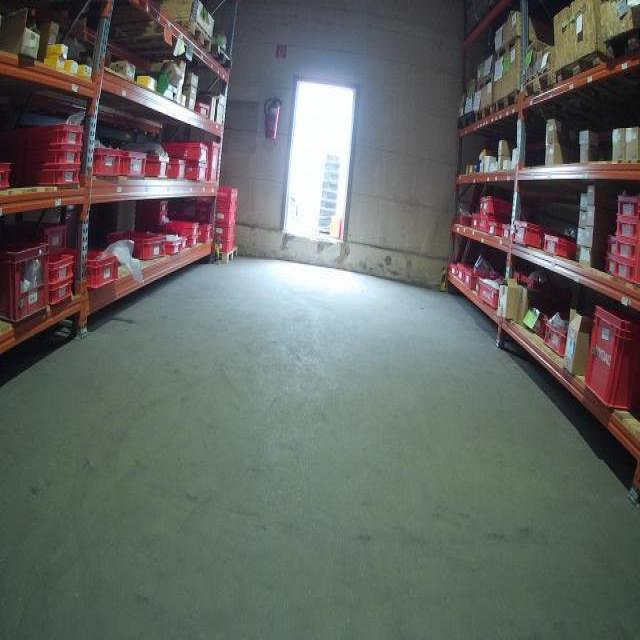pallet: (556, 49, 604, 87), (604, 27, 640, 63), (525, 67, 557, 97), (194, 49, 232, 70), (177, 24, 220, 40), (494, 90, 520, 112), (210, 246, 239, 264), (475, 104, 494, 123), (457, 111, 475, 131)
small_load_carrier: (583, 303, 640, 413), (2, 239, 52, 328), (2, 123, 84, 149), (108, 227, 167, 260), (117, 147, 170, 183), (9, 218, 73, 247), (86, 248, 126, 287), (168, 138, 210, 165), (43, 253, 78, 285), (21, 168, 78, 187), (510, 217, 544, 248), (542, 233, 577, 261), (544, 317, 569, 355), (477, 197, 522, 218), (19, 152, 81, 167), (91, 151, 121, 179), (202, 140, 220, 186), (45, 278, 73, 307), (163, 153, 188, 184), (614, 192, 640, 221), (163, 218, 202, 237), (475, 280, 501, 308), (465, 269, 496, 291), (2, 155, 19, 195), (181, 166, 210, 189), (614, 261, 640, 285), (136, 215, 170, 232), (614, 240, 640, 261), (136, 200, 169, 215), (614, 221, 639, 240), (216, 197, 241, 215), (212, 184, 240, 200), (214, 227, 239, 243), (501, 227, 520, 246), (169, 234, 185, 256), (218, 237, 238, 253), (199, 222, 213, 243), (216, 216, 240, 227), (490, 221, 502, 241), (477, 215, 490, 230), (448, 263, 459, 279), (460, 265, 471, 280), (187, 237, 203, 244)
